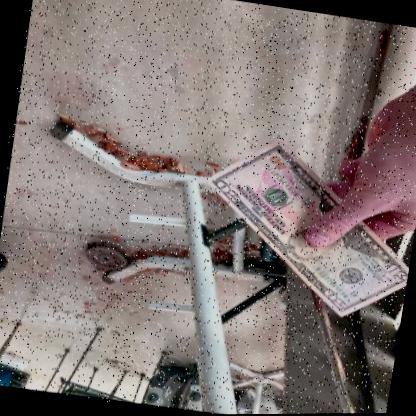fifty-front: (201, 139, 408, 318)
